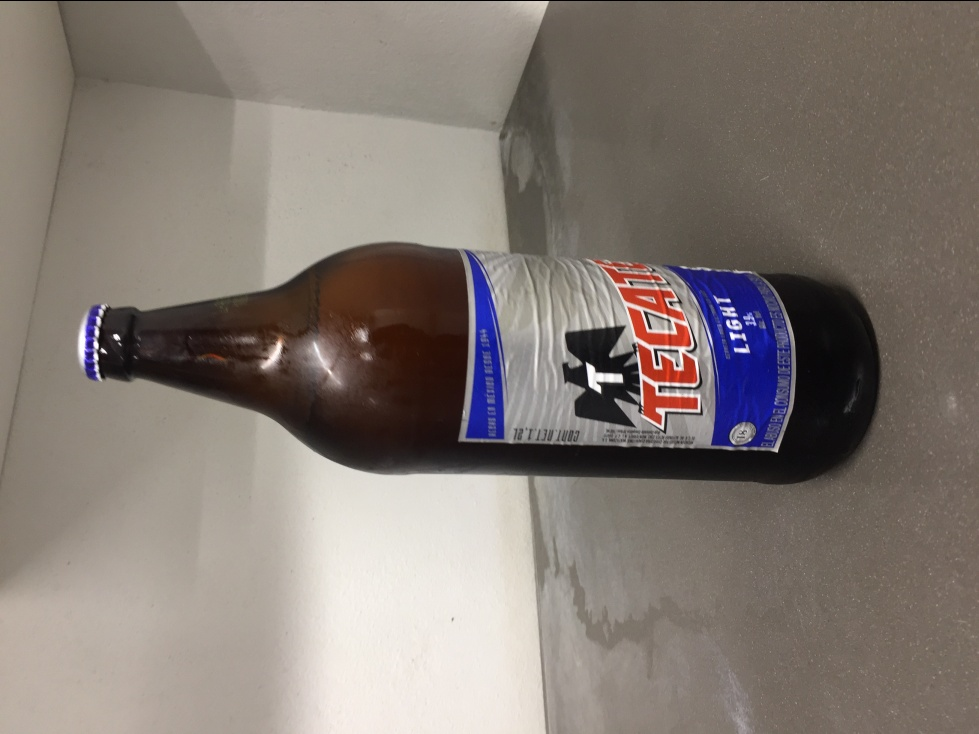tecateC: (84, 241, 884, 483)
